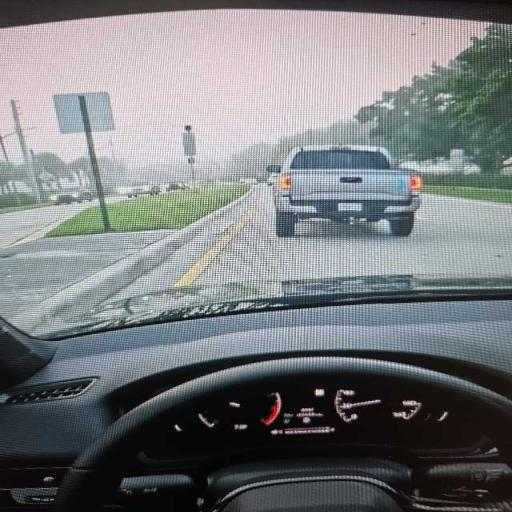car: (0, 0, 511, 511), (50, 188, 94, 204), (121, 183, 160, 198), (165, 182, 181, 191)
lane: (197, 187, 511, 284), (0, 200, 98, 248)
truck: (275, 146, 422, 237)
